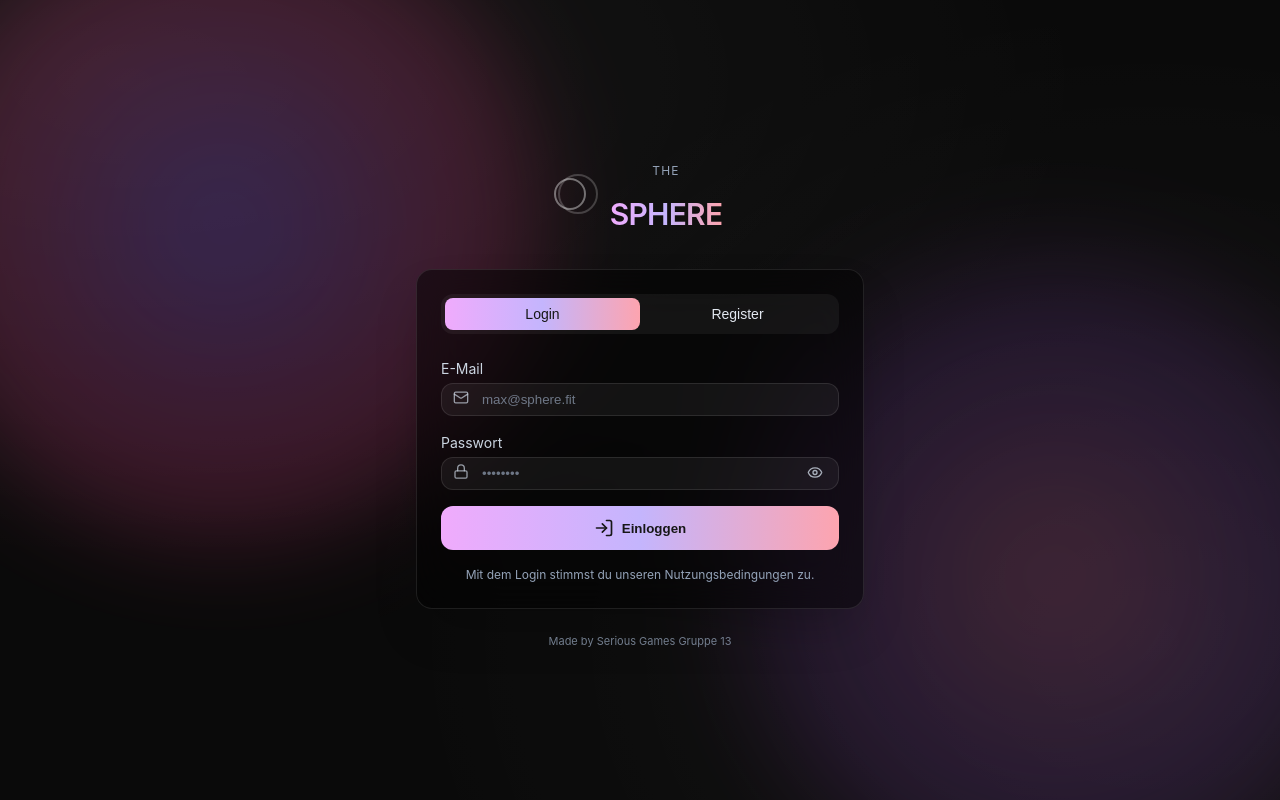
Test: LoginPage › Mode Switching › should switch to register mode
Click the button "Register".
click(738, 314)  # box [640, 298, 835, 330]
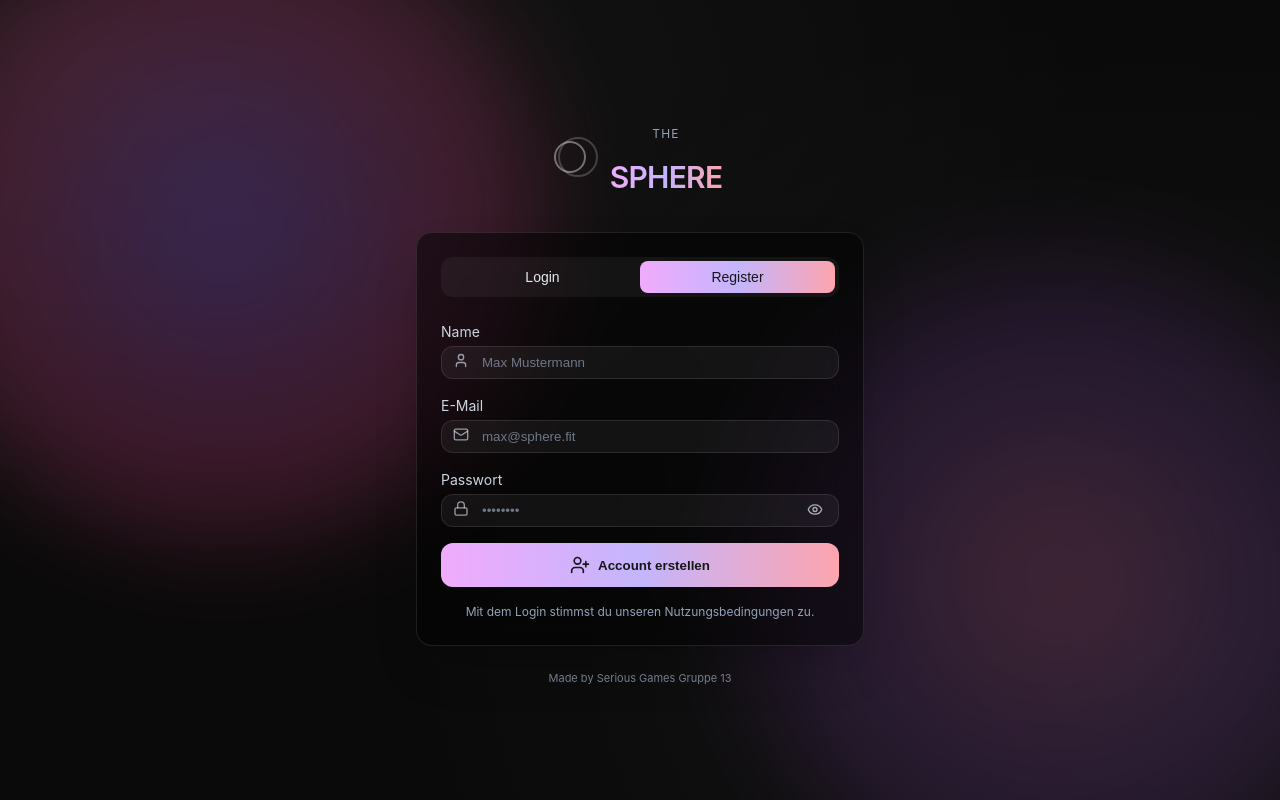
Now the field with placeholder "Max Mustermann" is shown, box [441, 346, 839, 379]
Now the button "Account erstellen" is shown, box [441, 543, 839, 587]
